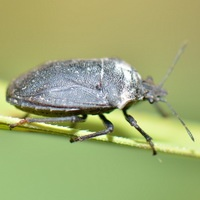insect: (6, 45, 194, 154)
